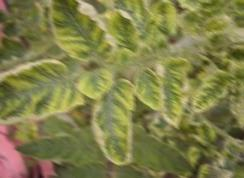Tomato leaf yellow virus: (0, 58, 70, 138), (41, 0, 116, 71), (92, 80, 143, 178), (152, 60, 189, 135), (195, 67, 231, 113), (105, 8, 140, 53), (148, 0, 180, 49), (135, 67, 164, 109), (182, 0, 225, 19), (197, 119, 216, 149)
